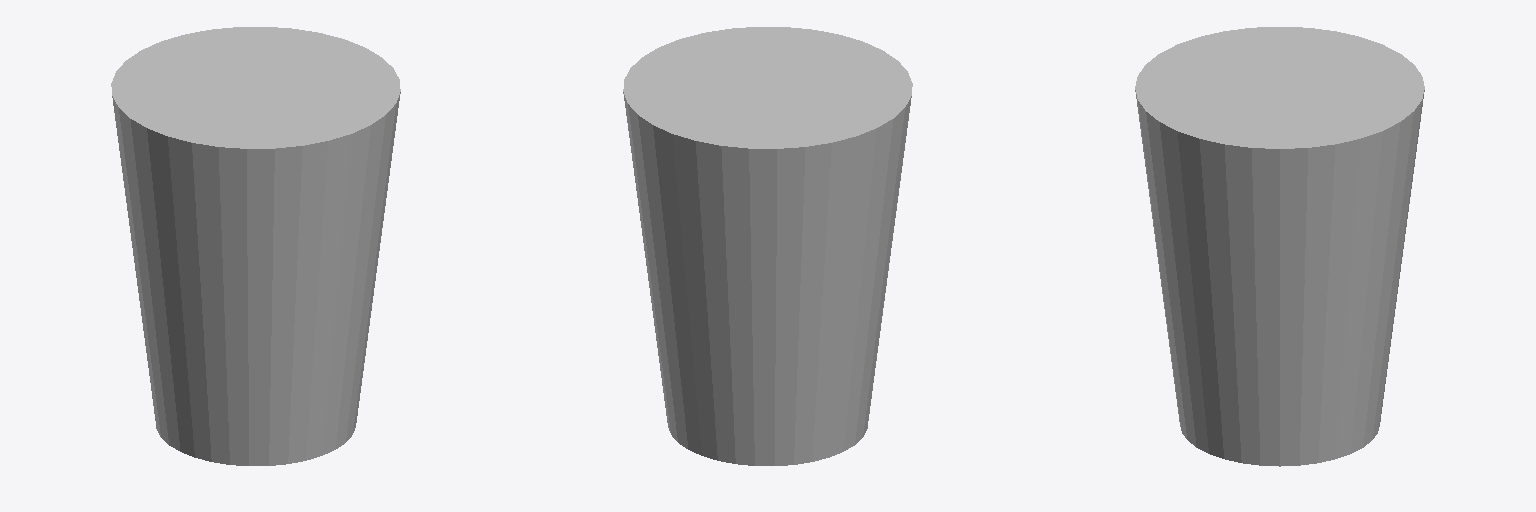
Rendered from Water.obj.
The picture shows the model from 3 angles: view 1: azimuth 30°, elevation 25°; view 2: azimuth 150°, elevation 25°; view 3: azimuth 270°, elevation 25°; orthographic projection.
Parts seen in each view (by area): view 1: Water_Cube.001; view 2: Water_Cube.001; view 3: Water_Cube.001.
Part boxes in pixels (left/top/right/bottom): Water_Cube.001: left=111, top=27, right=400, bottom=465; Water_Cube.001: left=623, top=27, right=912, bottom=465; Water_Cube.001: left=1135, top=27, right=1424, bottom=466.
Size of the model in its own units: 1.29 by 1.65 by 1.29.